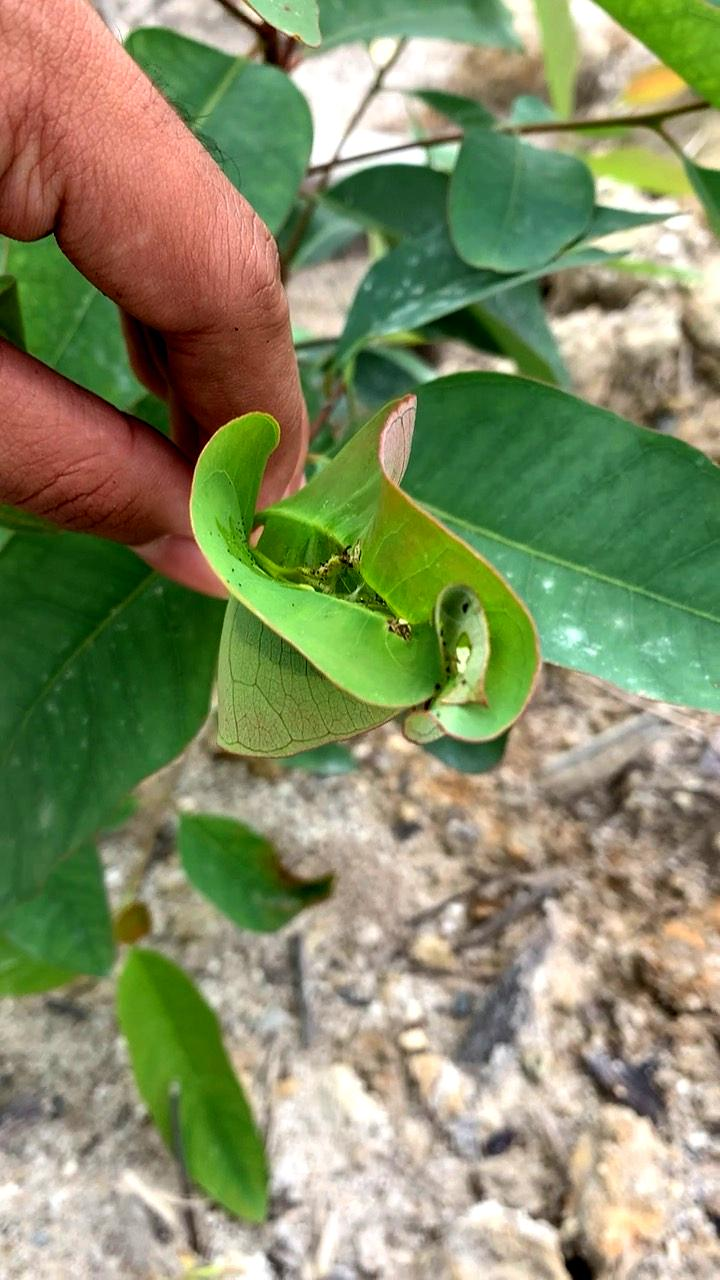Leaf Roller - Leaf: (151, 375, 556, 790)
